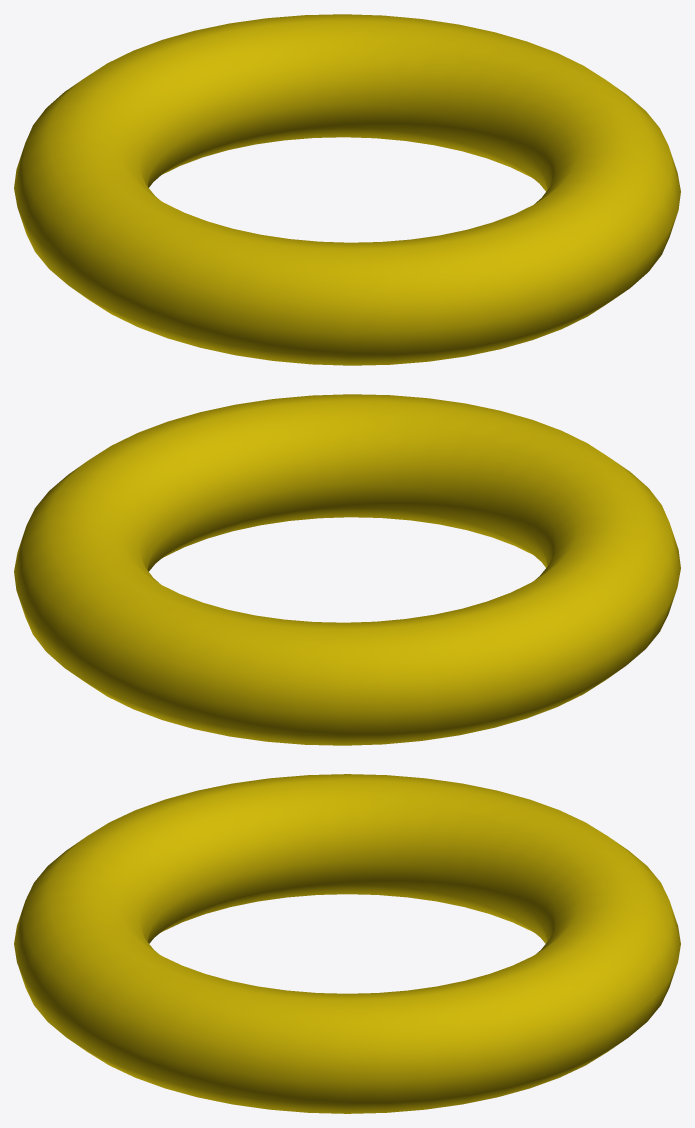
Rendered from hanoi_biggest.obj.
3 renders of one model, top to bottom at view 1: azimuth 30°, elevation 25°; view 2: azimuth 150°, elevation 25°; view 3: azimuth 270°, elevation 25°, orthographic.
Visible parts, largest first — view 1: Torus_0; view 2: Torus_0; view 3: Torus_0.
Boxes of the visible parts, x1=… form: Torus_0: x1=14, y1=14, x2=680, y2=365; Torus_0: x1=14, y1=394, x2=680, y2=745; Torus_0: x1=14, y1=774, x2=680, y2=1113.
Bounding box in the file's own units: 1.36 × 0.2478 × 1.4.
